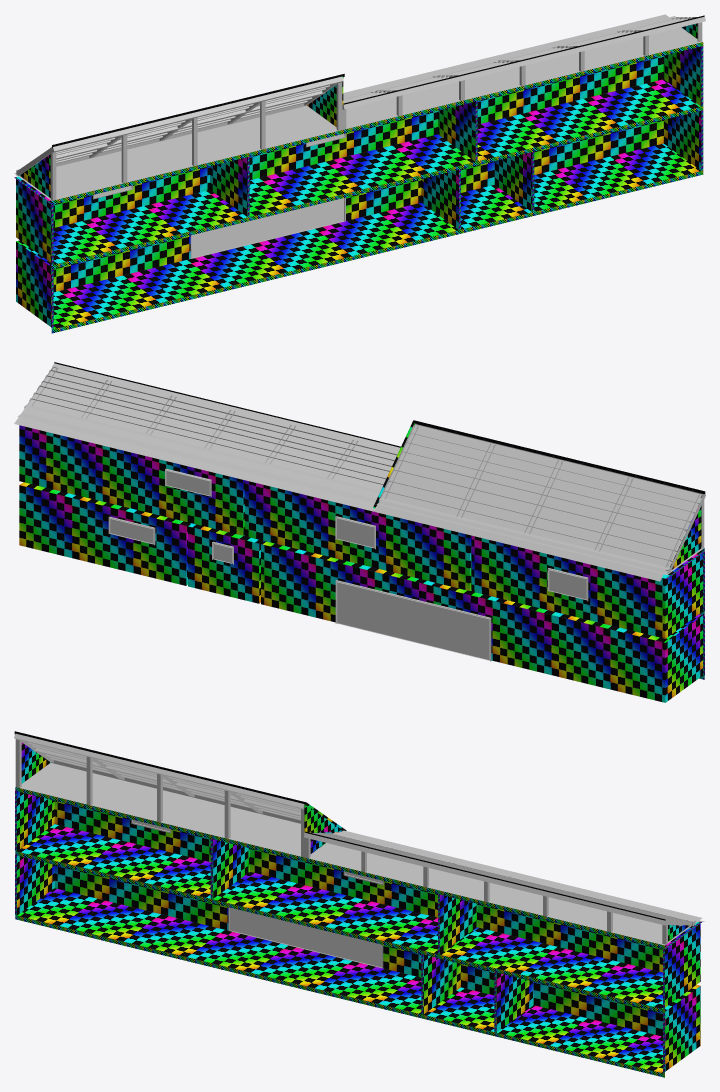
Rendered from HausBack.FBX.
The picture shows the model from 3 angles, top to bottom: view 1: azimuth 30°, elevation 25°; view 2: azimuth 150°, elevation 25°; view 3: azimuth 330°, elevation 25°; orthographic projection.
Parts seen in each view (by area): view 1: BackAtticFloor, BackLowerLivingFloor, BackWoodBeams, BackBeams, BackLowerLivingWall, BackUpperTwinsFloor, BackUpperBathFloor, BackUpperChildWall, BackUpperChildFloor, BackUpperBathWall, BackUpperTwinsWall, BackLowerWashingFloor (+7 smaller); view 2: BackRoofCeiling, BackLowerLivingWall, BackUpperChildWall, BackUpperBathWall, BackUpperTwinsWall, BackWoodBeams, BackWindows, BackLowerWashingWall, BackLowerWCWall, BackAtticFloor, BackWindowFrame, BackRoof (+3 smaller); view 3: BackAtticFloor, BackLowerLivingFloor, BackWoodBeams, BackBeams, BackUpperBathWall, BackUpperTwinsFloor, BackUpperBathFloor, BackLowerWashingWall, BackLowerLivingWall, BackUpperChildFloor, BackUpperTwinsWall, BackLowerWashingFloor (+8 smaller).
Part boxes in pixels (x1,y1,x2,y2): BackAtticFloor: (14,14,702,200); BackLowerLivingFloor: (53,202,458,328); BackWoodBeams: (16,16,705,200); BackBeams: (14,42,703,333); BackLowerLivingWall: (16,170,458,327); BackUpperTwinsFloor: (249,134,475,216); BackUpperBathFloor: (477,79,700,160); BackUpperChildWall: (16,157,247,262); BackUpperChildFloor: (53,190,247,264); BackUpperBathWall: (477,46,701,124); BackUpperTwinsWall: (249,101,475,179); BackLowerWashingFloor: (534,143,700,211); BackRoofCeiling: (14,368,701,581); BackLowerLivingWall: (261,544,702,702); BackUpperChildWall: (471,535,702,638); BackUpperBathWall: (19,425,244,535); BackUpperTwinsWall: (244,480,471,590); BackWoodBeams: (24,363,705,573); BackWindows: (110,470,587,660); BackLowerWashingWall: (19,485,191,585); BackLowerWCWall: (188,526,264,603); BackAtticFloor: (17,413,704,574); BackWindowFrame: (108,468,588,661); BackRoof: (54,362,705,508); BackAtticFloor: (20,763,702,945); BackLowerLivingFloor: (17,888,421,1013); BackWoodBeams: (14,733,695,944); BackBeams: (15,787,701,1077); BackUpperBathWall: (440,894,700,1007); BackUpperTwinsFloor: (213,872,437,954); BackUpperBathFloor: (440,927,662,1008); BackLowerWashingWall: (496,972,700,1071); BackLowerLivingWall: (17,855,421,977); BackUpperChildFloor: (17,824,210,898); BackUpperTwinsWall: (212,839,437,917); BackLowerWashingFloor: (497,1005,662,1073).
Bounding box in the file's own units: 1339 × 370 × 150.
